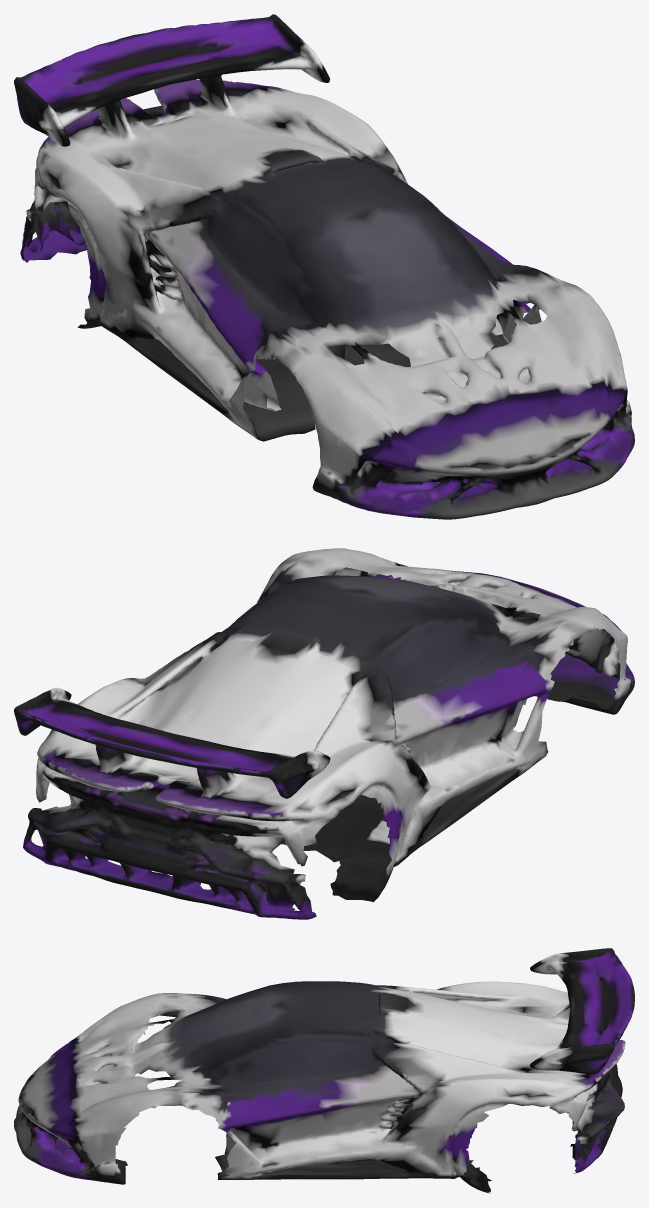
Rendered from supercar.glb.
3 renders of one model, top to bottom at view 1: azimuth 30°, elevation 25°; view 2: azimuth 150°, elevation 25°; view 3: azimuth 270°, elevation 25°, orthographic. The views are drawn at different scales.
Visible parts, largest first — view 1: geometry_0; view 2: geometry_0; view 3: geometry_0.
Part boxes in pixels (x1,y1,x2,y2): geometry_0: (14, 14, 634, 519); geometry_0: (14, 548, 634, 919); geometry_0: (14, 948, 634, 1193).
Size of the model in its own units: 2 by 1.18 by 4.6.
